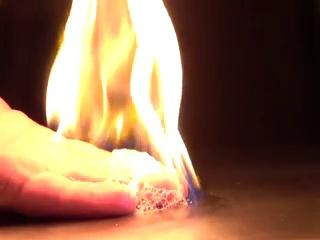Fire: (39, 1, 200, 203)
